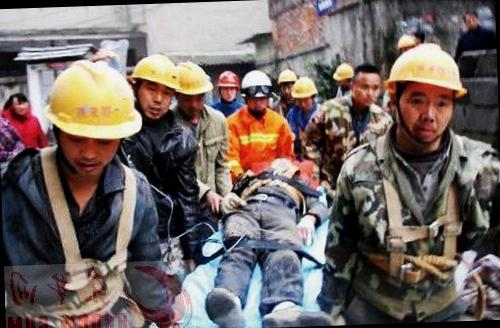no_helmet: (344, 62, 382, 110), (7, 90, 36, 120)
